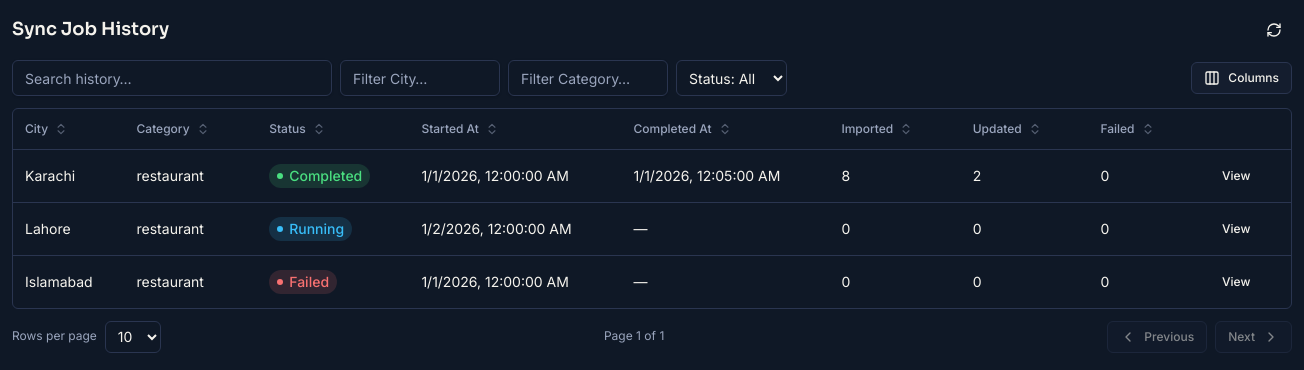
PlaceSyncHistoryTable › filters via the global search box, client-side over the loaded top-50 list
Expected: the text "Karachi" is shown, [13,149,124,202]
Type "Lahore" into the field labelled "Search".
click(172, 78); type("Lahore")  # box [12,60,332,96]
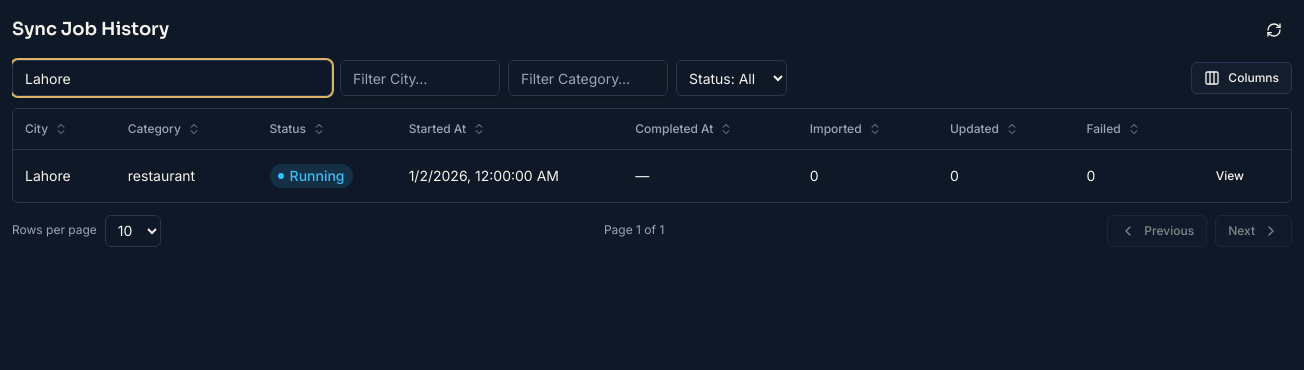
Expected: the text "Lahore" is shown, [13,149,116,202]
Now the text "Karachi" is gone
